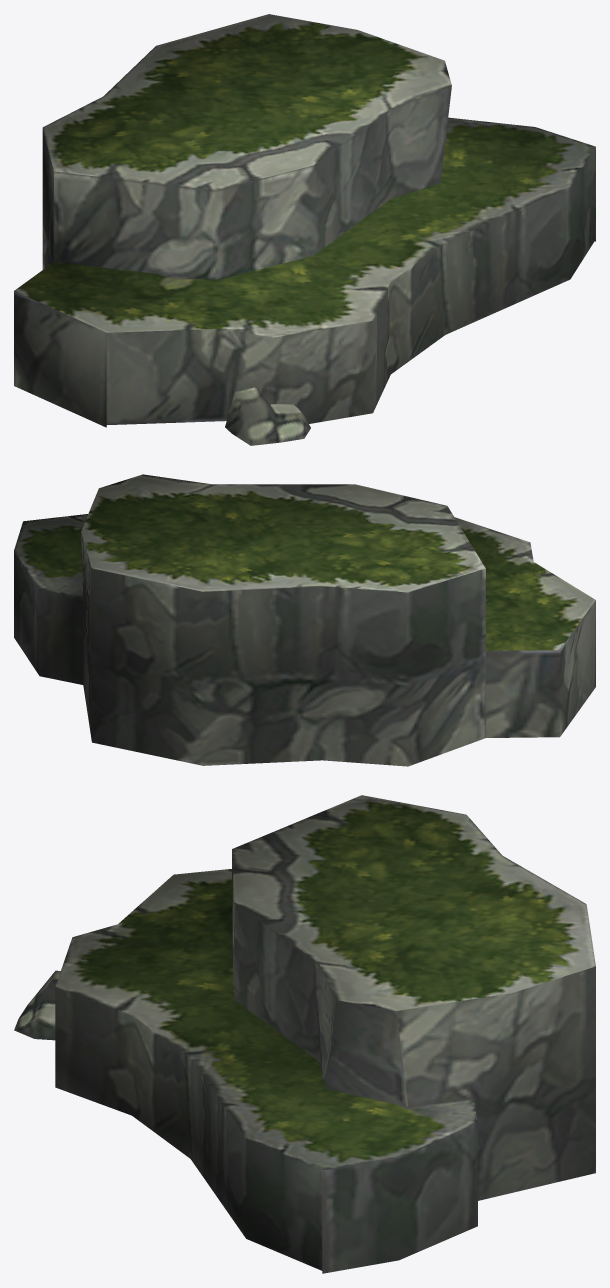
Rendered from Battle01_DuoBaoQiBingRock_05.FBX.
3 views of the same model, one above another, from view 1: azimuth 30°, elevation 25°; view 2: azimuth 150°, elevation 25°; view 3: azimuth 270°, elevation 25° (orthographic). The views are drawn at different scales.
Parts seen in each view (by area): view 1: Battle01_DuoBaoQiBingRock_05_01, Battle01_DuoBaoQiBingRock_05_02; view 2: Battle01_DuoBaoQiBingRock_05_01; view 3: Battle01_DuoBaoQiBingRock_05_01, Battle01_DuoBaoQiBingRock_05_02.
Boxes of the visible parts, x1,y1,x2,y2 form: Battle01_DuoBaoQiBingRock_05_01: (14, 14, 595, 427); Battle01_DuoBaoQiBingRock_05_02: (225, 387, 310, 445); Battle01_DuoBaoQiBingRock_05_01: (14, 474, 595, 766); Battle01_DuoBaoQiBingRock_05_01: (55, 795, 595, 1273); Battle01_DuoBaoQiBingRock_05_02: (14, 970, 60, 1040).
Bounding box in the file's own units: 8.57 × 2.67 × 6.8.
